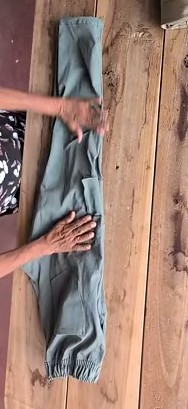TROUSER: (44, 30, 148, 381)
